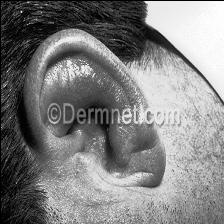Unclassified: (57, 35, 145, 97)
